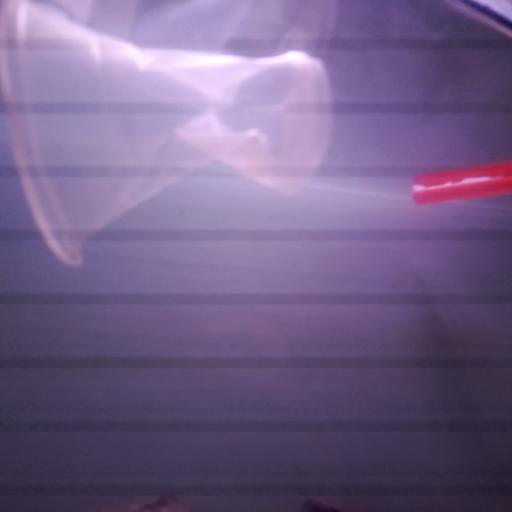plastic_cup: (0, 0, 333, 272)
plastic_straw: (410, 159, 512, 205)
